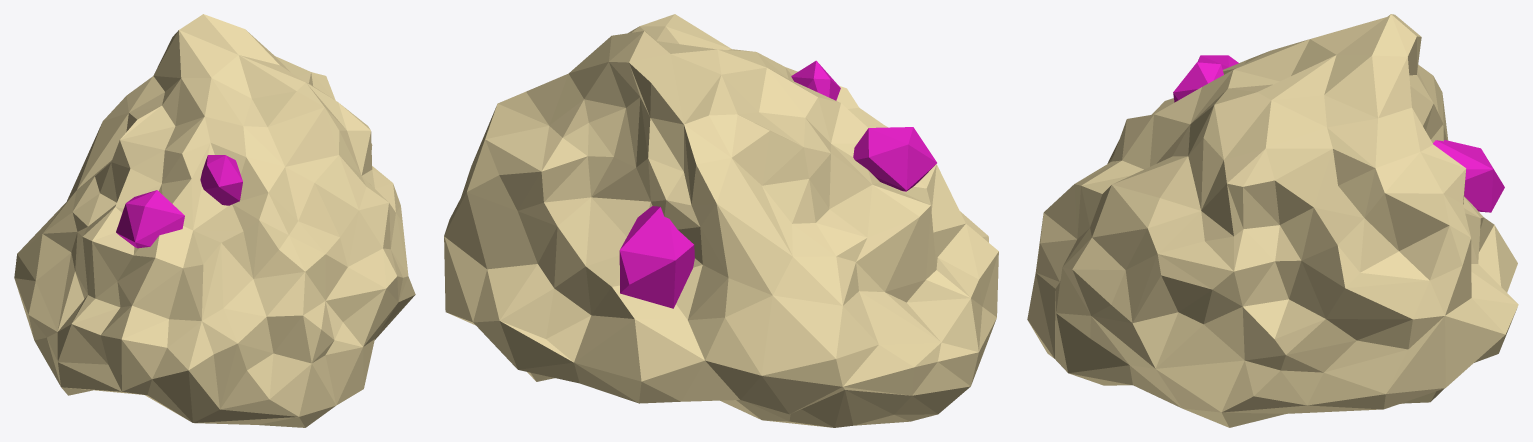
File: CrystalOre (7).fbx
3 renders of one model, left to right at view 1: azimuth 30°, elevation 25°; view 2: azimuth 150°, elevation 25°; view 3: azimuth 270°, elevation 25°, orthographic. The views are drawn at different scales.
Parts seen in each view (by area): view 1: Asteroid227; view 2: Asteroid227; view 3: Asteroid227.
Boxes of the visible parts, x1,y1,x2,y2 form: Asteroid227: [14, 14, 415, 427]; Asteroid227: [444, 14, 998, 427]; Asteroid227: [1027, 14, 1518, 427].
Size of the model in its own units: 454 by 370 by 441.
